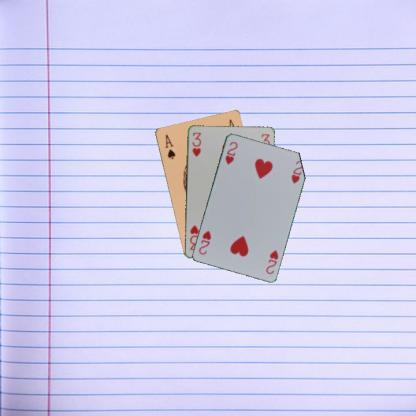2h: (263, 247, 280, 275), (222, 138, 238, 166)
3h: (190, 130, 202, 158)
As: (162, 132, 176, 160)
